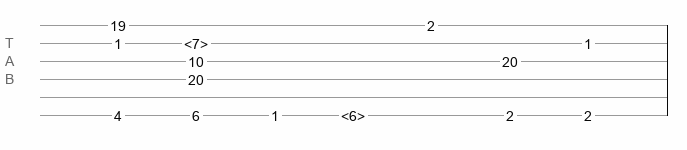1: (114, 36, 122, 46), (271, 108, 279, 118), (584, 36, 592, 46)
10: (188, 54, 204, 64)
19: (110, 18, 126, 28)
2: (427, 18, 435, 28), (506, 108, 514, 118), (584, 108, 592, 118)
20: (188, 72, 204, 82), (502, 54, 518, 64)
4: (114, 108, 122, 118)
6: (192, 108, 200, 118)
harmonic: (184, 36, 208, 46), (341, 108, 365, 118)
